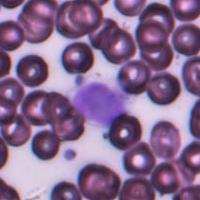L: (72, 77, 128, 127)
